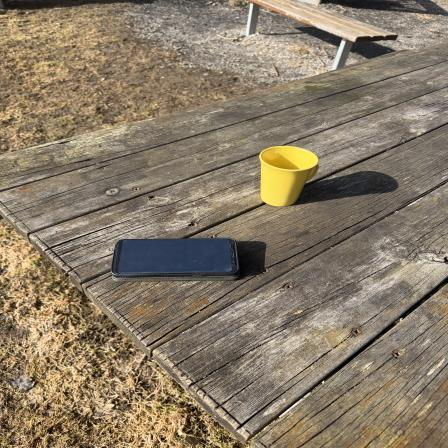phone: (104, 232, 250, 287)
yellow_cup: (250, 143, 338, 213)
